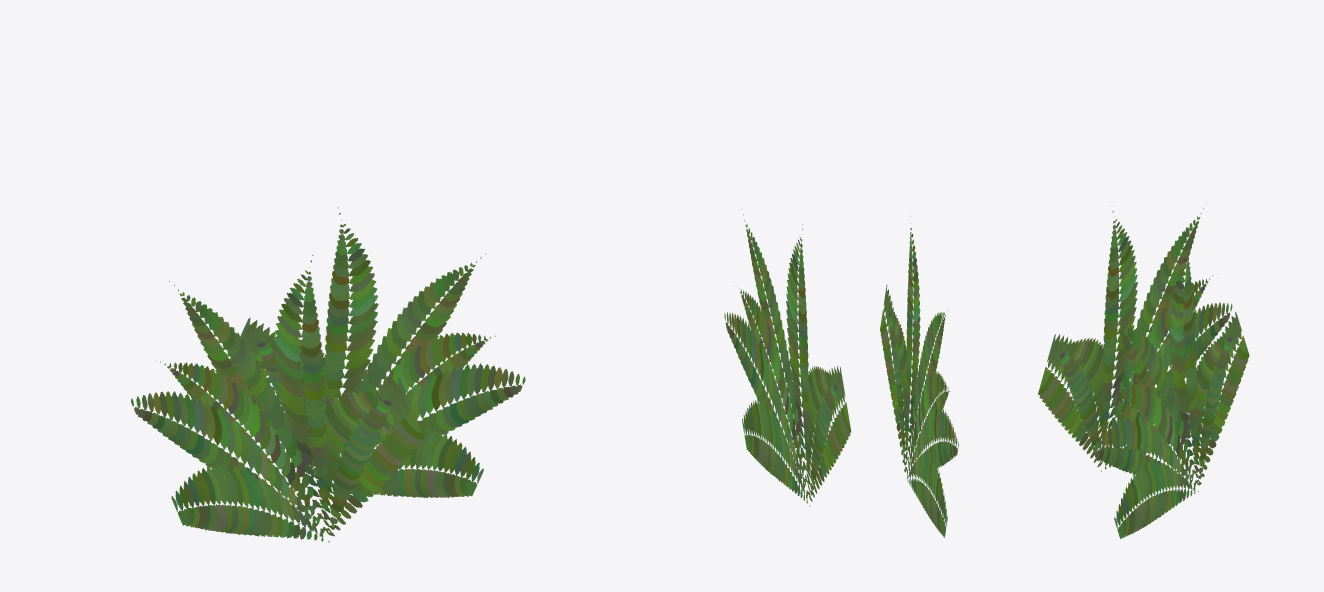
File: Fern_2_LOD2.gltf
3 renders of one model, left to right at view 1: azimuth 30°, elevation 25°; view 2: azimuth 150°, elevation 25°; view 3: azimuth 270°, elevation 25°, orthographic. The views are drawn at different scales.
Parts seen in each view (by area): view 1: Fern_2_LOD2; view 2: Fern_2_LOD2; view 3: Fern_2_LOD2.
Part boxes in pixels (box(x1,y1,x2,y2)): Fern_2_LOD2: box(131, 207, 525, 542); Fern_2_LOD2: box(724, 209, 958, 537); Fern_2_LOD2: box(1038, 203, 1249, 538).
Size of the model in its own units: 1.52 by 1.61 by 0.8783.
1 material, 1 textured.
